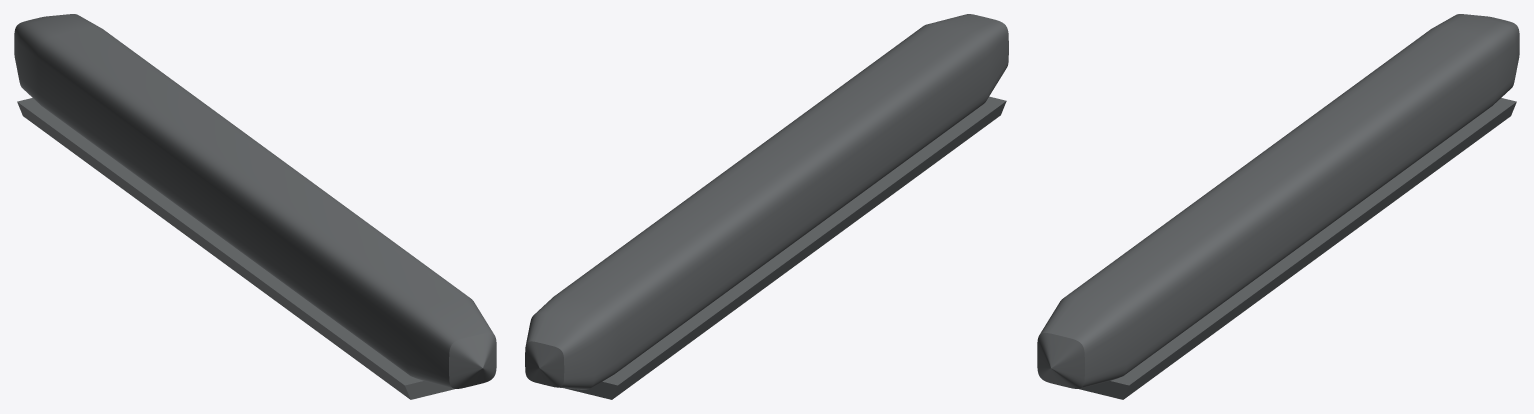
File: bru61.glb
The picture shows the model from 3 angles, left to right: view 1: azimuth 30°, elevation 25°; view 2: azimuth 150°, elevation 25°; view 3: azimuth 330°, elevation 25°; orthographic projection.
Visible parts, largest first — view 1: bru61_body; view 2: bru61_body; view 3: bru61_body.
Boxes of the visible parts, x1,y1,x2,y2 form: bru61_body: (14,14,496,399); bru61_body: (525,14,1008,399); bru61_body: (1037,14,1519,399).
Bounding box in the file's own units: 0.414 × 0.365 × 3.63.
1 material, 1 textured.
